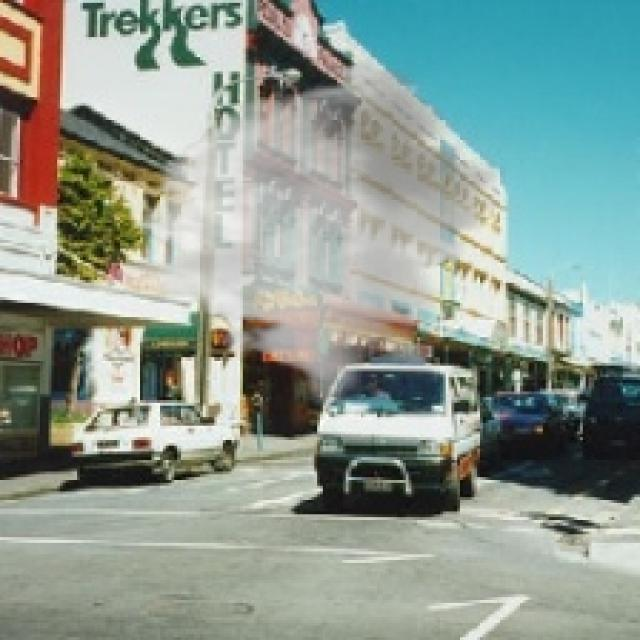smoke: (111, 57, 506, 409)
